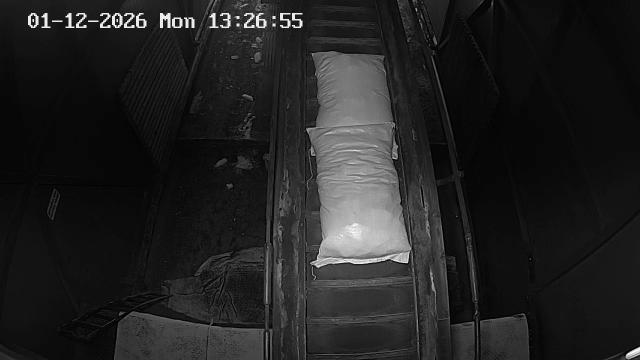bag: (308, 123, 412, 268), (312, 52, 398, 160)
